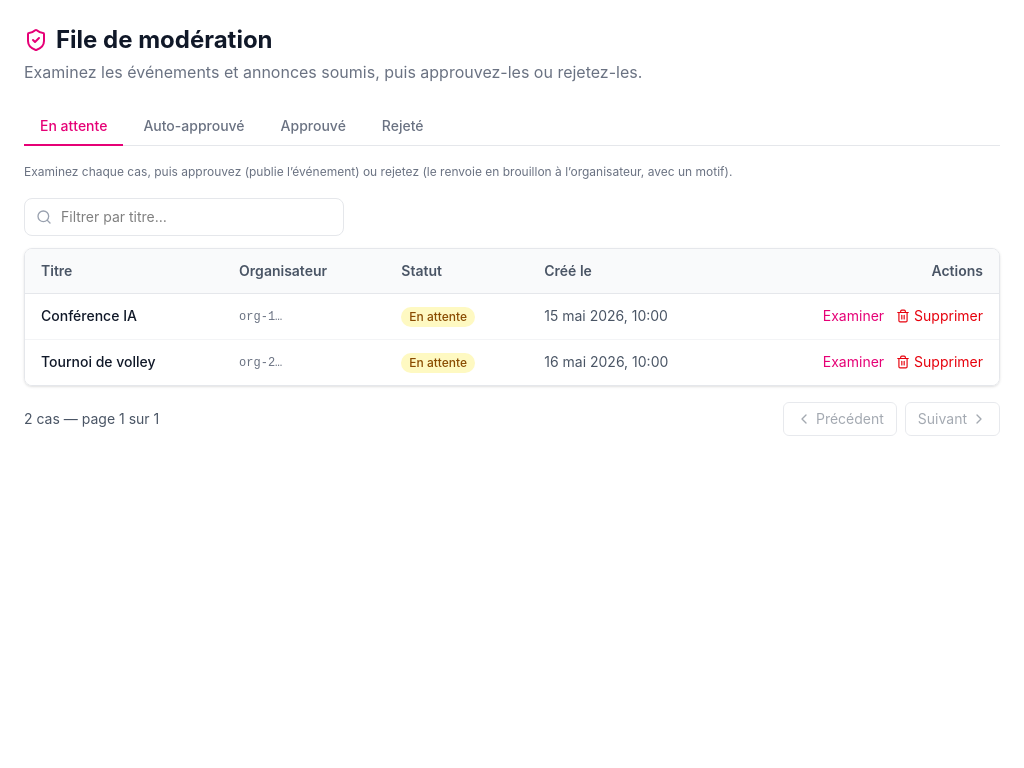
AdminModerationPage › deletes the underlying event and the case, then removes the row
The width and height of the screenshot is (1024, 768).
expect the link "Conférence IA" is shown: met, box [41,307,137,324]
Click the button "Supprimer" in the row of "Conférence IA" at [940, 316], box [896,306,983,326]
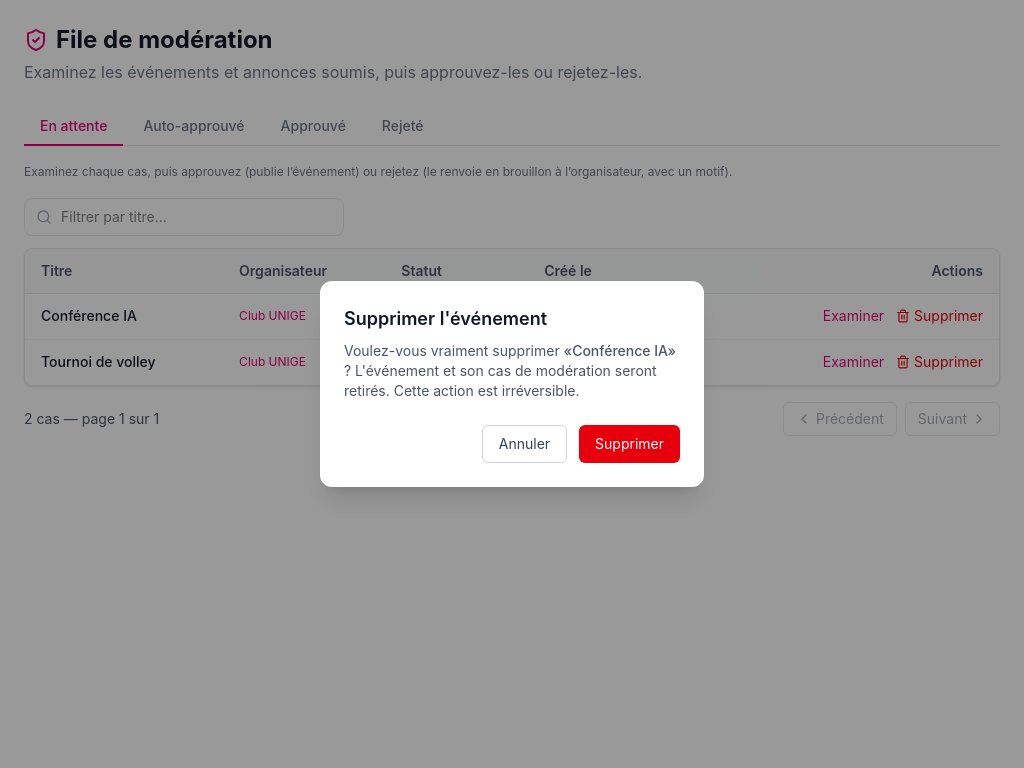
Click the button "Supprimer" at [630, 444], box [579,425,680,463]
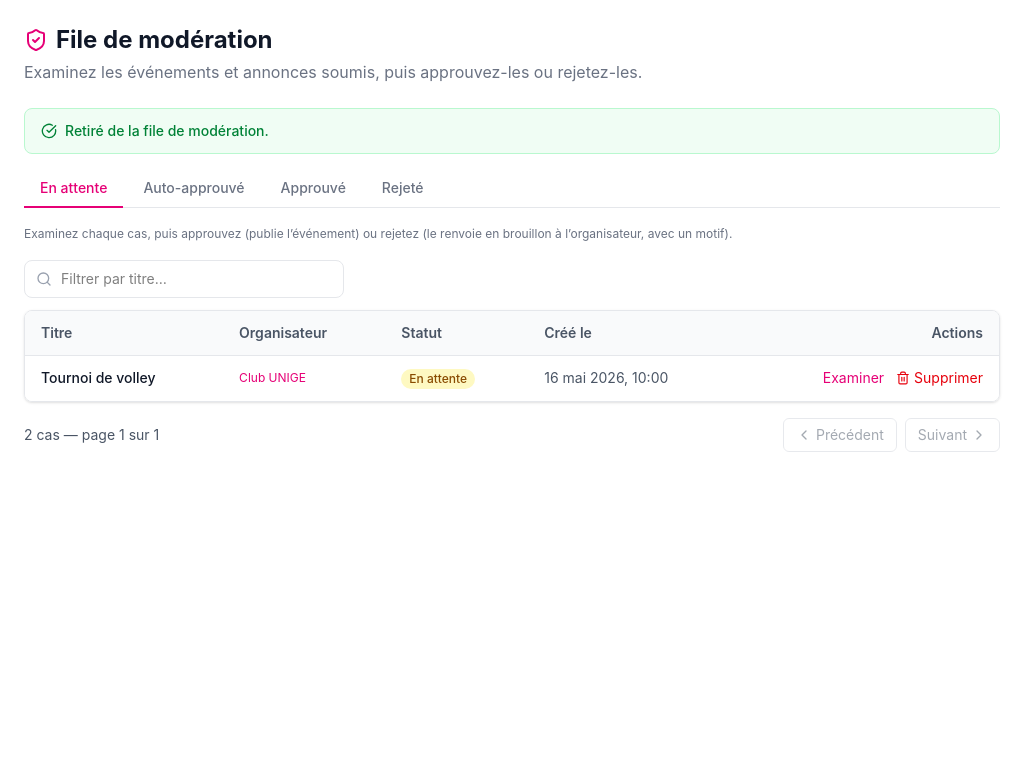
expect the text "Retiré de la file de modération." is shown: met, box [24,108,1000,154]
expect the link "Conférence IA" is gone: met
